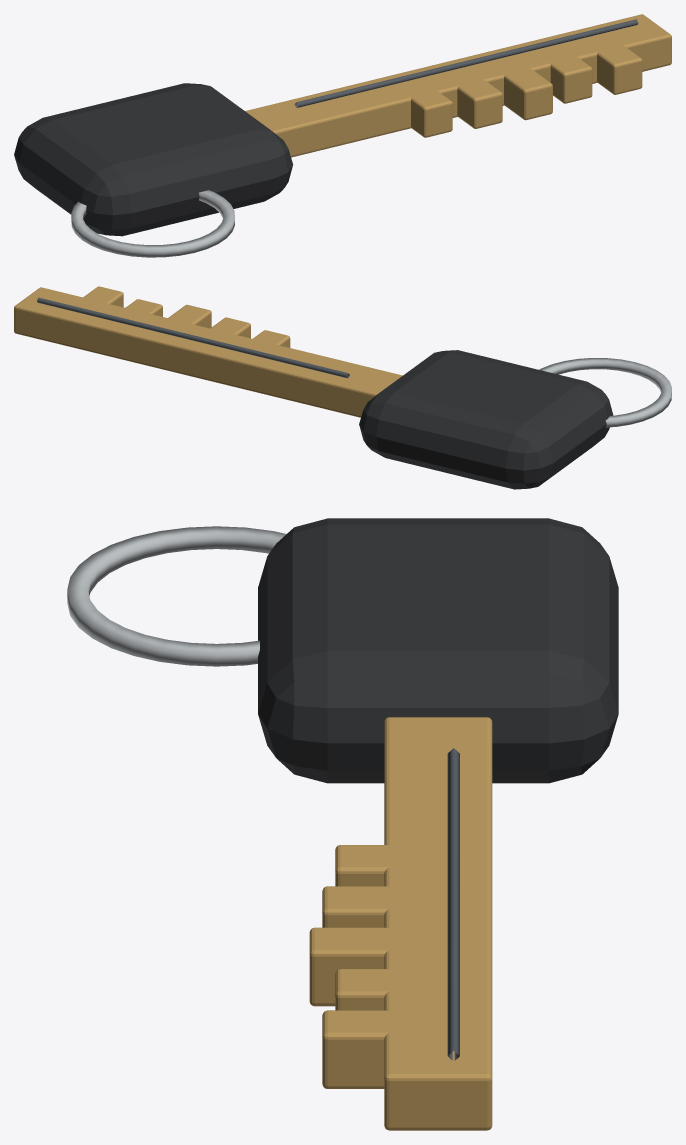
Rendered from car_key.glb.
3 renders of one model, top to bottom at view 1: azimuth 30°, elevation 25°; view 2: azimuth 150°, elevation 25°; view 3: azimuth 270°, elevation 25°, orthographic. The views are drawn at different scales.
Parts seen in each view (by area): view 1: car_key; view 2: car_key; view 3: car_key.
Part boxes in pixels (bbox=[...]): car_key: bbox=[14, 14, 671, 257]; car_key: bbox=[14, 286, 671, 489]; car_key: bbox=[67, 518, 618, 1130].
Size of the model in its own units: 0.26 by 0.027 by 0.107.
